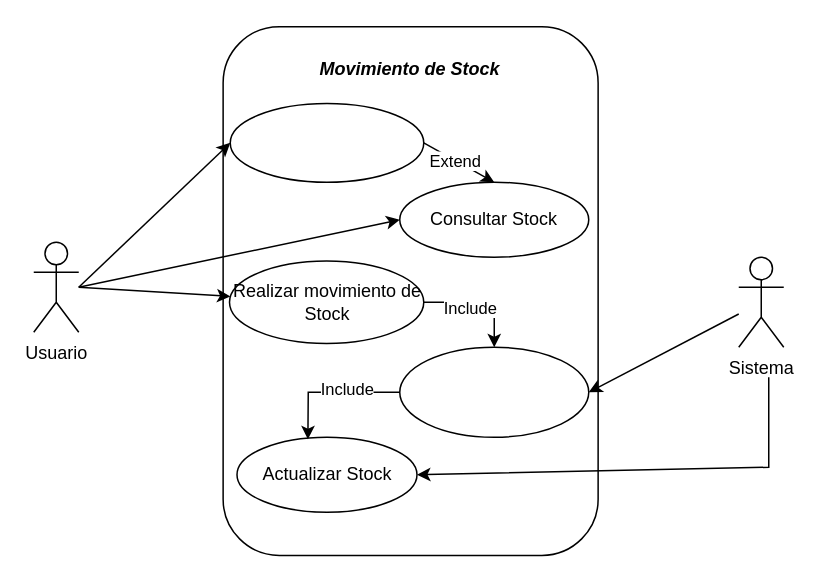
This 819x582 diagram has some shape labels left out. Here are the shapes that lost their labels. From the top down, the centre of each, then its label:
(x=326, y=142): Acceder al Inventario
(x=493, y=391): Autentificar y verificar el movimiento
